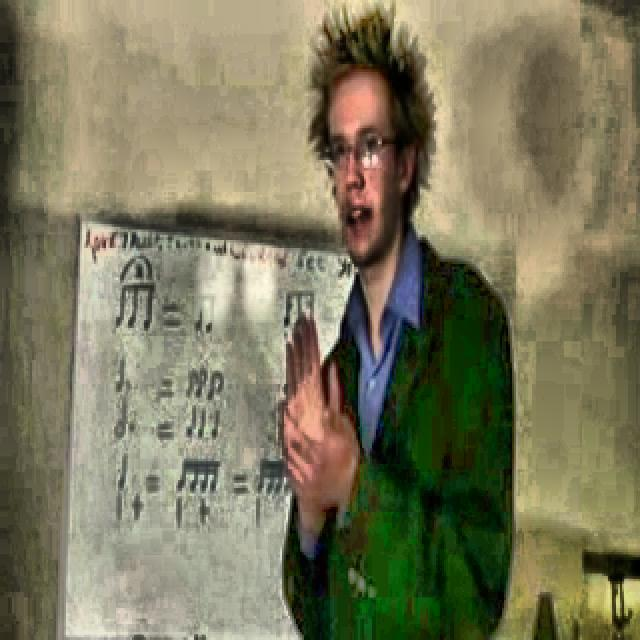F: (274, 4, 520, 636)
